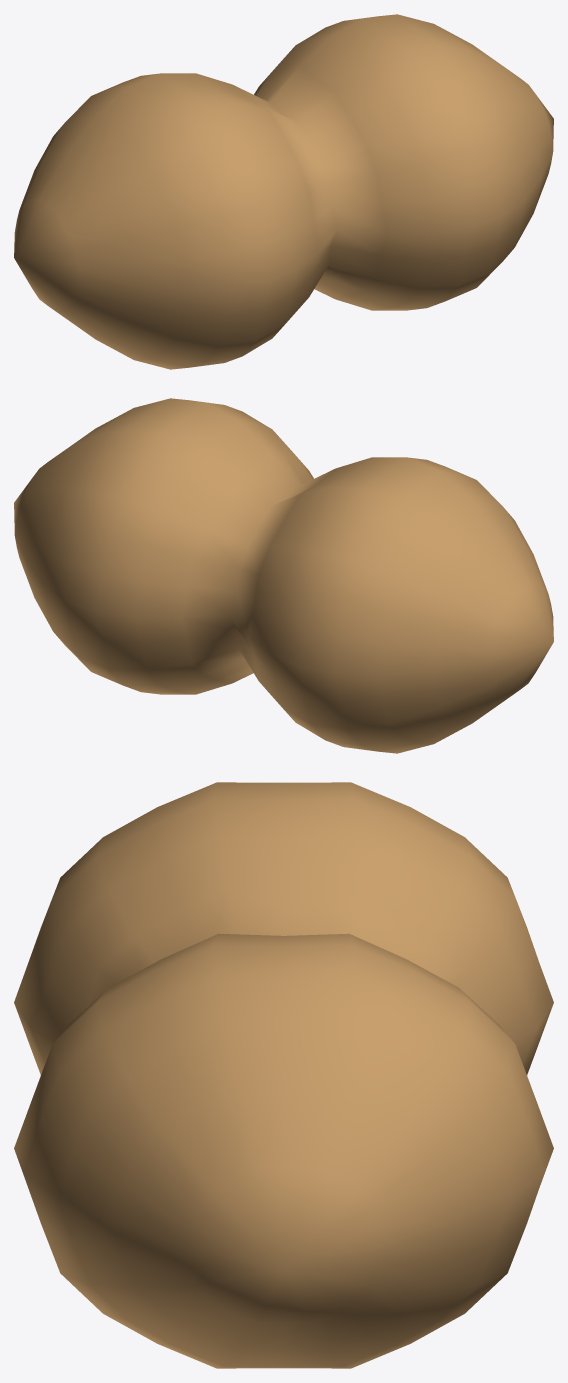
The model's file is NEW_RECOVERY_014_LOD2.glb.
3 views of the same model, one above another, from view 1: azimuth 30°, elevation 25°; view 2: azimuth 150°, elevation 25°; view 3: azimuth 270°, elevation 25° (orthographic). The views are drawn at different scales.
Parts seen in each view (by area): view 1: Whole unshelled peanut; view 2: Whole unshelled peanut; view 3: Whole unshelled peanut.
Part boxes in pixels (box(x1,y1,x2,y2)): Whole unshelled peanut: box(14, 14, 553, 369); Whole unshelled peanut: box(14, 398, 553, 753); Whole unshelled peanut: box(14, 782, 553, 1368).
Bounding box in the file's own units: 2.7 × 1.27 × 1.5.
